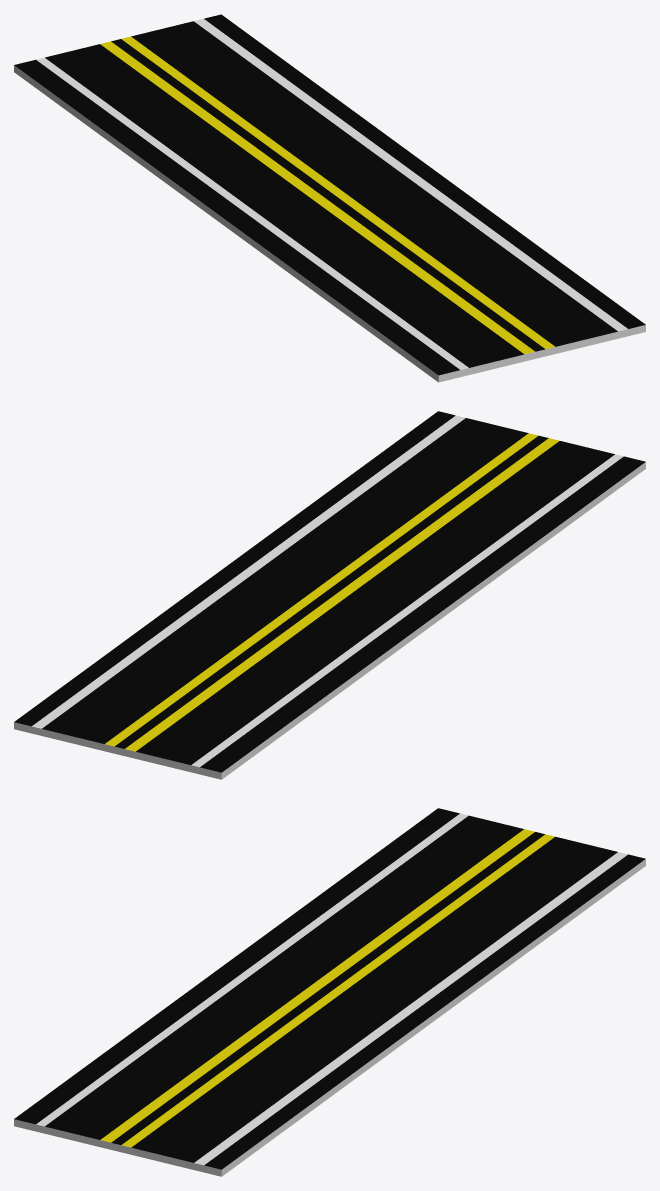
File: FinalStreet.fbx
The picture shows the model from 3 angles, top to bottom: view 1: azimuth 30°, elevation 25°; view 2: azimuth 150°, elevation 25°; view 3: azimuth 330°, elevation 25°; orthographic projection.
Visible parts, largest first — view 1: Cube; view 2: Cube; view 3: Cube.
Part boxes in pixels (<box>): Cube: <box>14,14,645,382</box>; Cube: <box>14,411,645,779</box>; Cube: <box>14,808,645,1176</box>.
Size of the model in its own units: 439 by 14.41 by 1552.
